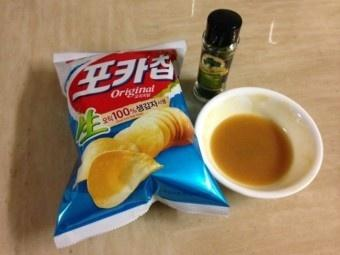snack: (54, 39, 229, 249)
